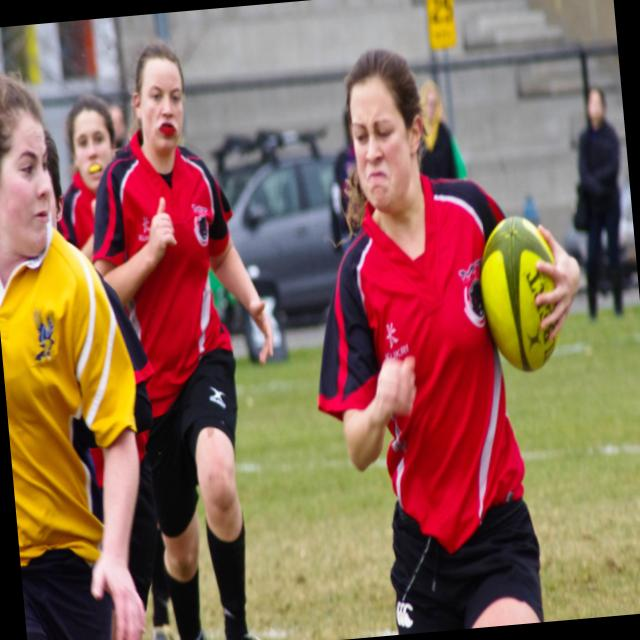Ball: (474, 212, 564, 376)
